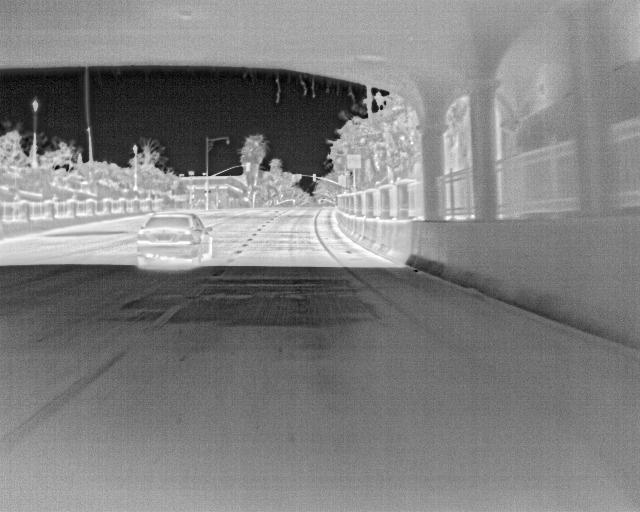bicycle: (133, 209, 214, 267)
